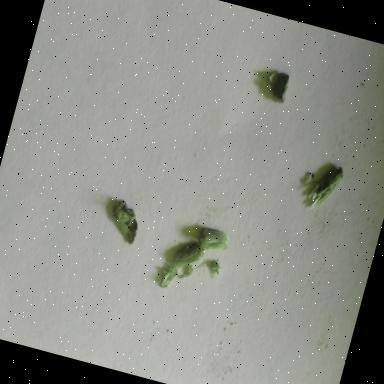pbw: (304, 159, 346, 216), (104, 197, 145, 247), (169, 237, 207, 278), (196, 226, 230, 258)
